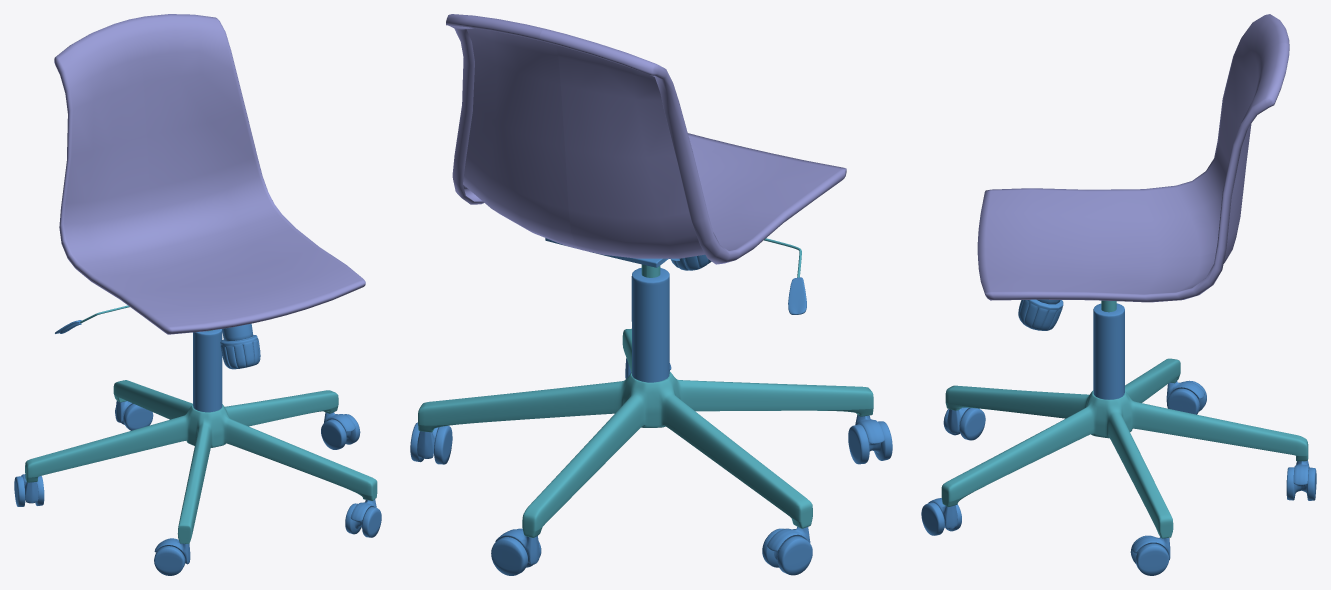
File: main chair.fbx
3 renders of one model, left to right at view 1: azimuth 30°, elevation 25°; view 2: azimuth 150°, elevation 25°; view 3: azimuth 270°, elevation 25°, orthographic. The views are drawn at different scales.
Visible parts, largest first — view 1: main chair; view 2: main chair; view 3: main chair.
Boxes of the visible parts, x1=… form: main chair: x1=14, y1=14, x2=381, y2=575; main chair: x1=410, y1=14, x2=892, y2=575; main chair: x1=921, y1=14, x2=1316, y2=575.
Size of the model in its own units: 58.26 by 71.86 by 57.18.
